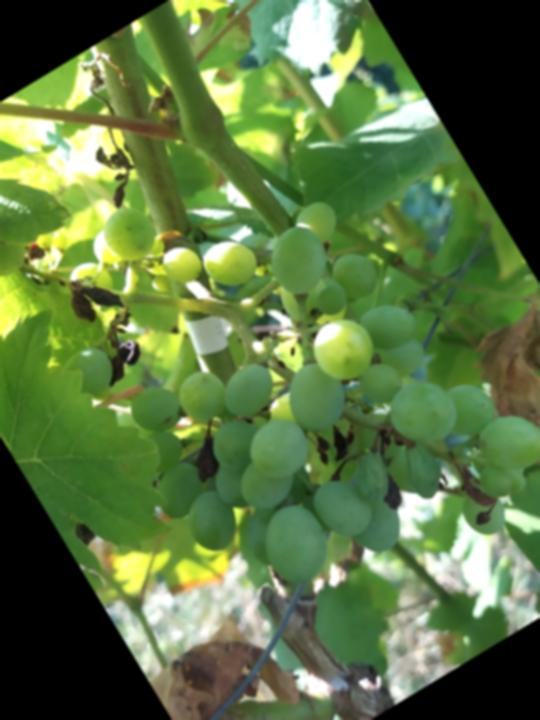grape: (2, 81, 540, 685)
